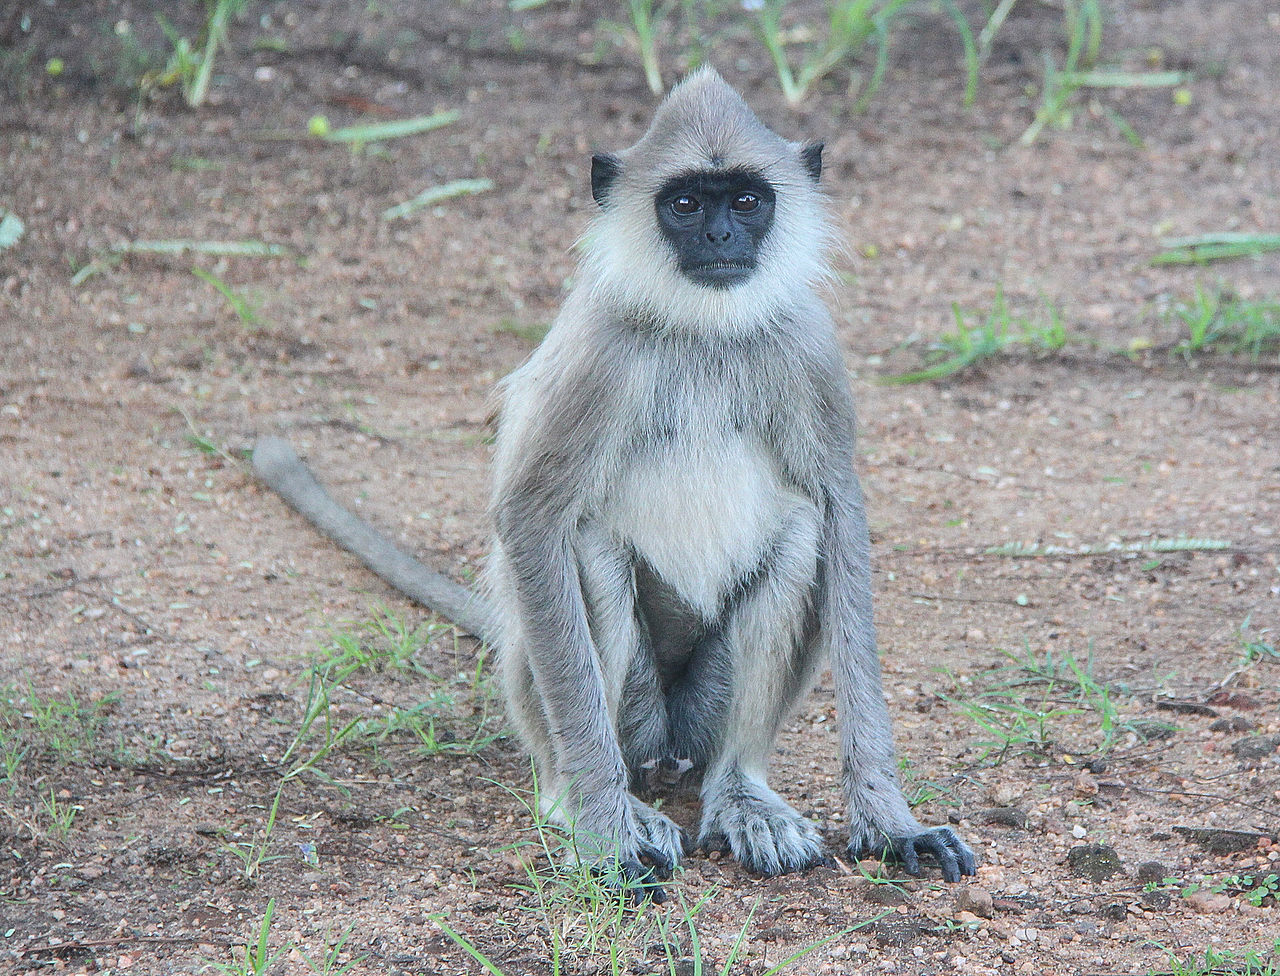Monkey: (451, 23, 947, 892)
